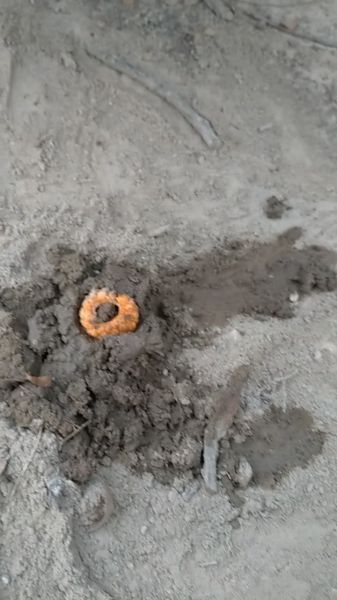eggs: (74, 283, 146, 346)
